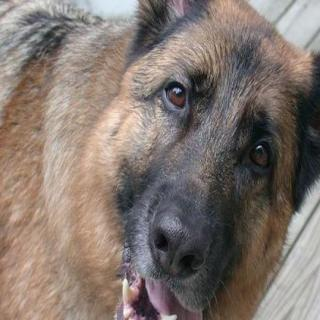dog: (75, 0, 320, 320)
nose: (141, 203, 217, 280)
